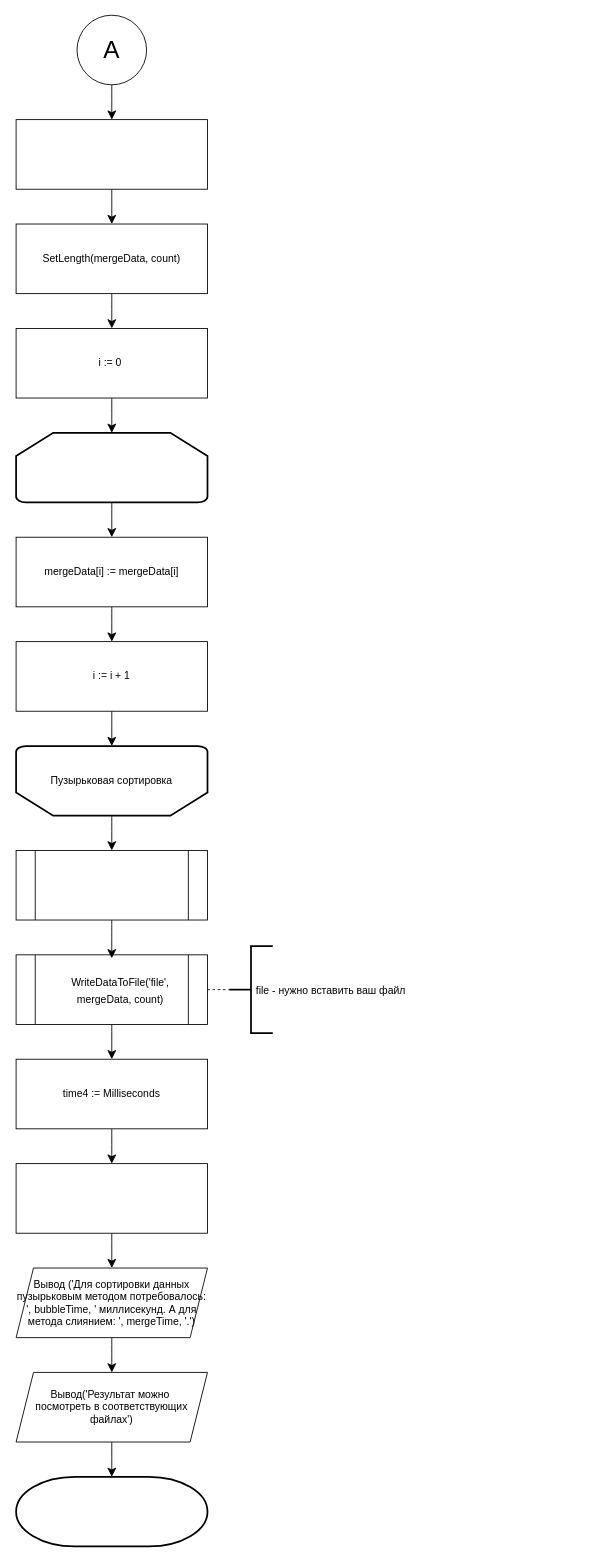
The diagram is 591 pixels wide and 1563 high, and some of its shapes have lost their labels. Here are the shapes that lost their labels. From the top down, the centre of each, then its label:
the point at 111,154: time3 := Milliseconds
the point at 111,467: Пузырьковая сортировка i > count - 1
the point at 111,885: MergeSort(mergeData, Low(mergeData), count - 1, CompareAscending)
the point at 111,1198: bubbleTime := time2 - time1 mergeTime := time4 - time3
the point at 111,1511: Конец
